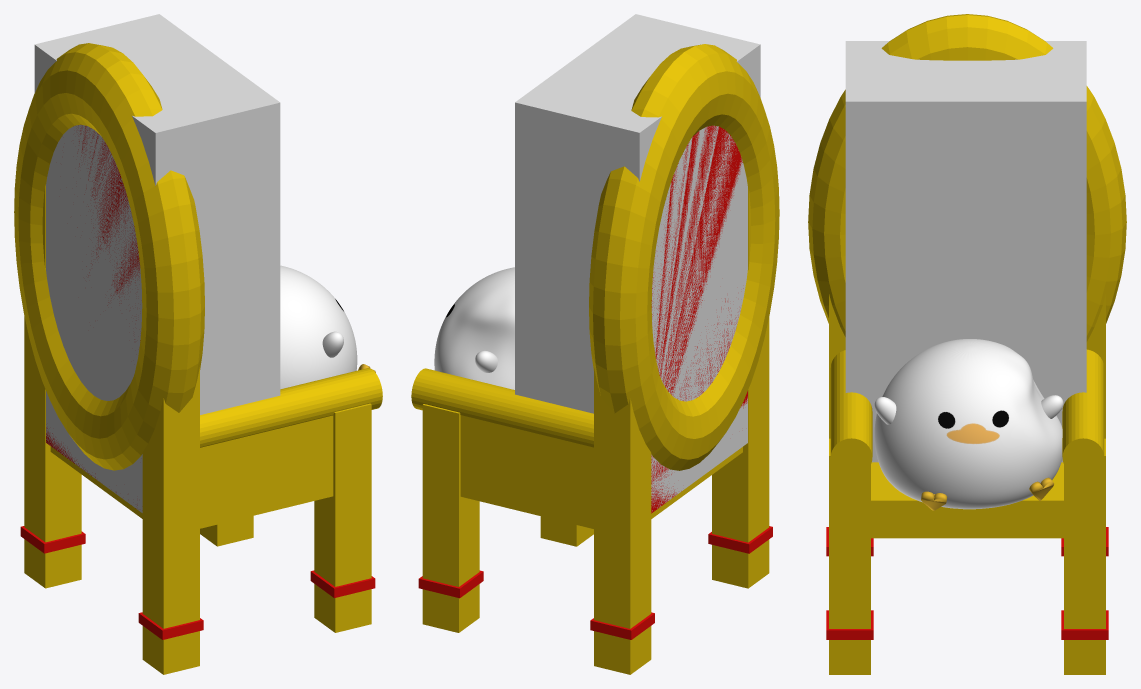
File: Salomon_Clément - Neuvi et son throne.fbx
3 renders of one model, left to right at view 1: azimuth 30°, elevation 25°; view 2: azimuth 150°, elevation 25°; view 3: azimuth 270°, elevation 25°, orthographic.
Visible parts, largest first — view 1: Cube.005, Tore, Cube.004, Cube.002, Cube, Cube.006, Cylindre, Sphère, Cube.003, Cube.001; view 2: Cube.005, Tore, Cube.004, Cube.002, Cube, Sphère, Cube.006, Cylindre, Cube.003, Cube.001; view 3: Cube.005, Cube.006, Tore, Cube, Cube.002, Cylindre, Cube.004, Cube.001.
Boxes of the visible parts, box(x1,y1,x2,y2) form: Cube.005: box(34, 14, 280, 512); Tore: box(14, 43, 204, 470); Cube.004: box(24, 185, 199, 674); Cube.002: box(50, 415, 333, 528); Cube: box(200, 403, 371, 632); Cube.006: box(280, 265, 357, 389); Cylindre: box(200, 368, 382, 447); Sphère: box(46, 125, 140, 508); Cube.003: box(20, 526, 203, 639); Cube.001: box(310, 570, 375, 597); Cube.005: box(515, 14, 760, 511); Tore: box(589, 44, 779, 470); Cube.004: box(594, 186, 769, 674); Cube.002: box(460, 415, 742, 528); Cube: box(422, 404, 593, 632); Sphère: box(651, 125, 747, 513); Cube.006: box(434, 267, 514, 389); Cylindre: box(411, 368, 593, 447); Cube.003: box(590, 526, 772, 639); Cube.001: box(418, 570, 483, 598); Cube.005: box(845, 41, 1086, 462); Cube.006: box(874, 339, 1063, 509); Tore: box(808, 14, 1126, 341); Cube: box(829, 438, 1105, 674); Cube.002: box(871, 462, 1063, 538); Cylindre: box(830, 349, 1104, 476); Cube.004: box(829, 294, 1105, 438); Cube.001: box(826, 610, 1108, 639).
Bounding box in the file's own units: 1506 × 2995 × 1527.
